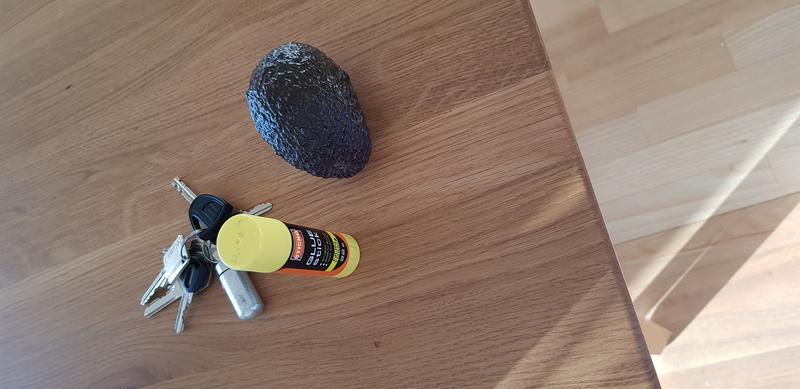Avocado: (242, 37, 376, 185)
Glue-Stick: (205, 211, 370, 286)
